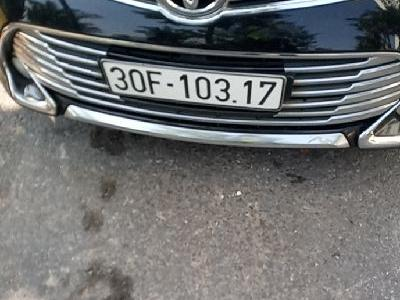lisence: (99, 57, 287, 114)
